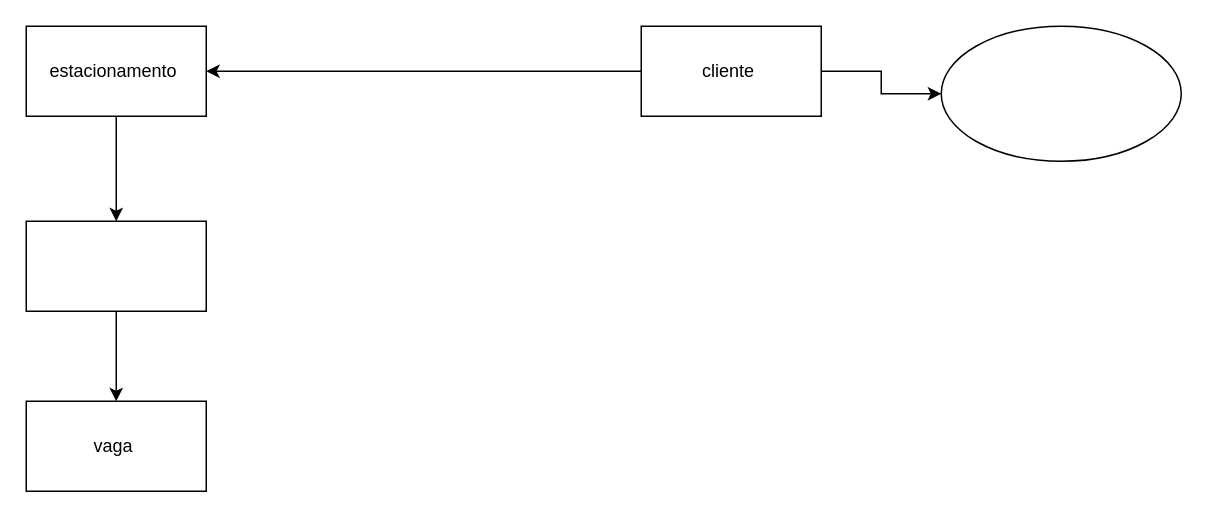
Image size: 1208x518. Some labels were removed from this diagram. Here are the shapes that lost their labels. From the top down, the centre of each, then its label:
At point 1060,93: "nome".
At point 115,265: "motorista".
